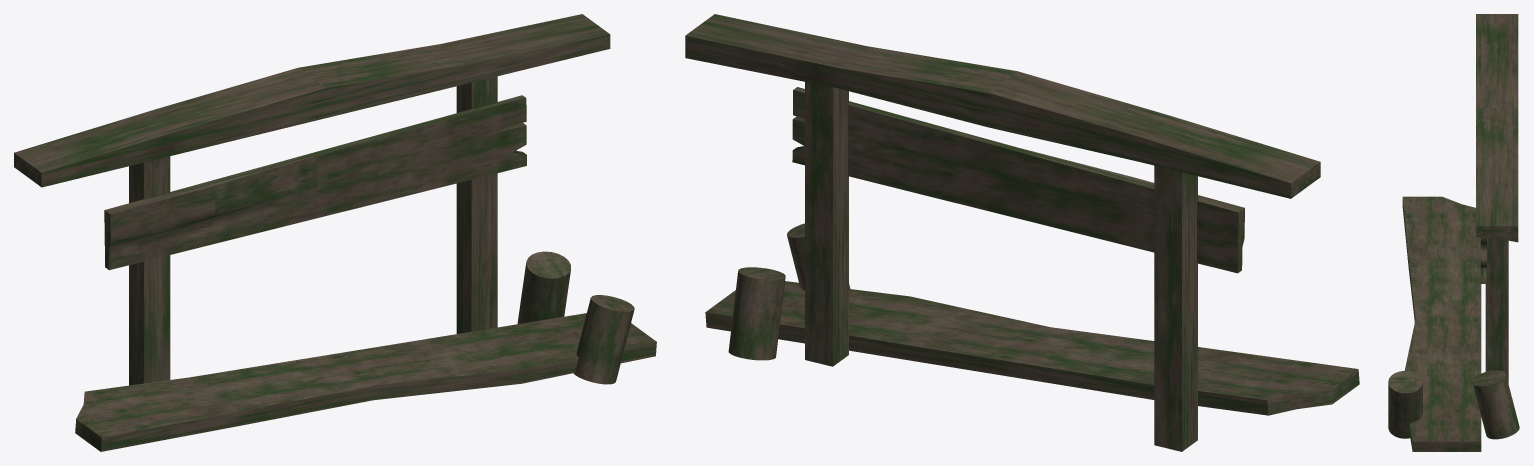
Rendered from silla-rota.glb.
3 views of the same model, side by side, from view 1: azimuth 30°, elevation 25°; view 2: azimuth 150°, elevation 25°; view 3: azimuth 270°, elevation 25° (orthographic). The views are drawn at different scales.
Bounding box in the file's own units: 11.94 × 6.25 × 3.1.
Materials: 1 (1 with a texture image).
